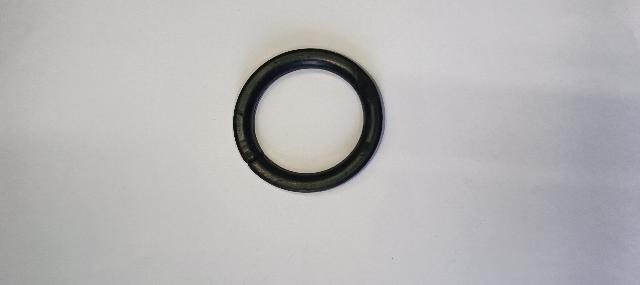4: (352, 63, 384, 105), (233, 106, 247, 120)
crack: (241, 145, 270, 173)
